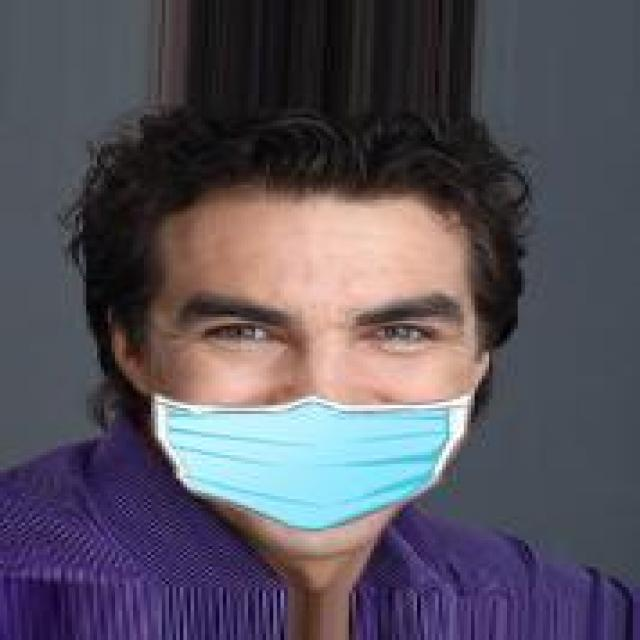mask: (79, 91, 536, 546)
